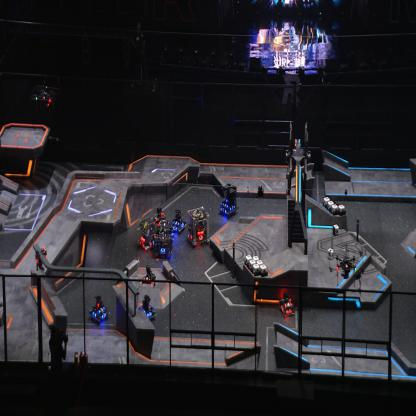car: (187, 206, 210, 246), (218, 184, 240, 218), (138, 215, 157, 251), (88, 292, 109, 324), (156, 221, 174, 258), (138, 294, 156, 321), (169, 207, 187, 233), (279, 290, 296, 317), (142, 264, 158, 288), (152, 206, 166, 227)
